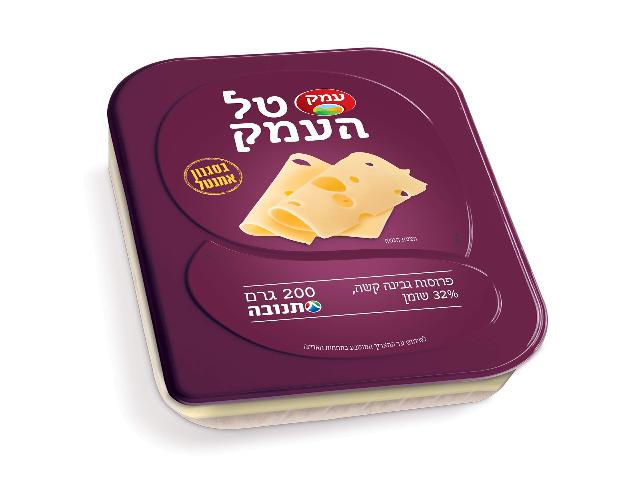cheese: (105, 43, 547, 427)
